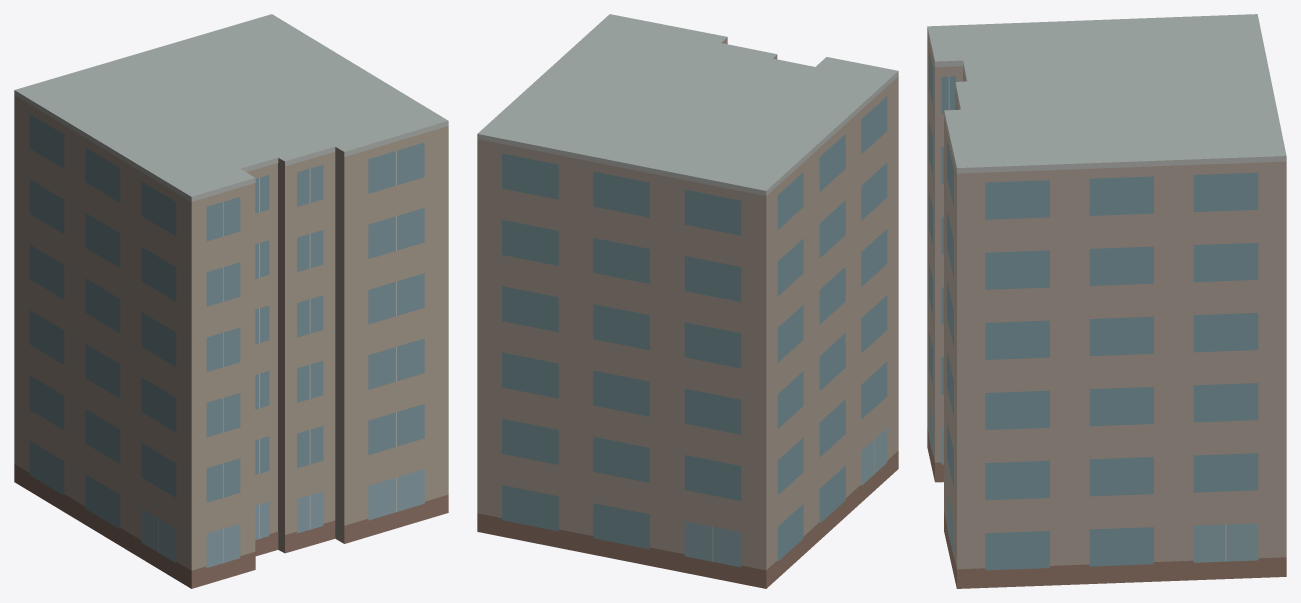
File: survey-upis-33013364.glb
3 views of the same model, side by side, from view 1: azimuth 30°, elevation 25°; view 2: azimuth 150°, elevation 25°; view 3: azimuth 270°, elevation 25° (orthographic). The views are drawn at different scales.
Visible parts, largest first — view 1: survey-upis-33013364.tmp; view 2: survey-upis-33013364.tmp; view 3: survey-upis-33013364.tmp.
Boxes of the visible parts, x1,y1,x2,y2 form: survey-upis-33013364.tmp: (14,14,448,588); survey-upis-33013364.tmp: (477,14,898,588); survey-upis-33013364.tmp: (927,14,1286,588).
Bounding box in the file's own units: 14.7 × 18.7 × 14.48.
